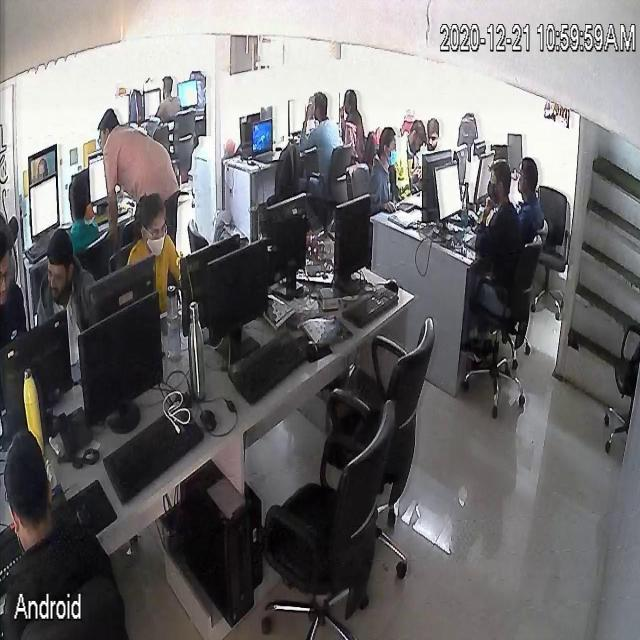chair: (260, 396, 400, 640), (337, 319, 437, 510), (479, 240, 535, 420), (532, 174, 572, 323), (26, 584, 128, 640), (599, 313, 640, 442), (316, 136, 349, 214), (265, 140, 301, 202), (173, 108, 195, 176), (84, 231, 112, 274), (111, 218, 132, 269), (348, 159, 372, 199), (359, 128, 377, 164)
keyboard: (104, 407, 206, 497), (230, 325, 306, 408), (342, 282, 400, 322), (1, 518, 20, 585), (27, 231, 49, 264), (402, 194, 414, 218)
monitor: (76, 288, 162, 429), (2, 306, 72, 421), (180, 232, 240, 337), (203, 241, 271, 328), (83, 260, 158, 324), (266, 191, 308, 285), (334, 191, 370, 276), (31, 172, 59, 236), (434, 160, 462, 220), (89, 153, 108, 205), (474, 147, 490, 199), (177, 78, 198, 110), (507, 132, 522, 174), (254, 122, 274, 152), (238, 113, 258, 142)
person: (0, 432, 126, 640), (37, 228, 101, 375), (470, 161, 521, 314), (98, 118, 176, 208), (131, 195, 183, 311), (300, 91, 342, 202), (0, 218, 27, 351), (369, 126, 400, 215), (64, 169, 99, 245), (518, 154, 546, 243), (404, 120, 432, 192), (340, 87, 366, 155), (155, 73, 181, 120), (429, 108, 443, 154)
